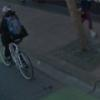bicycles: (0, 32, 35, 82)
